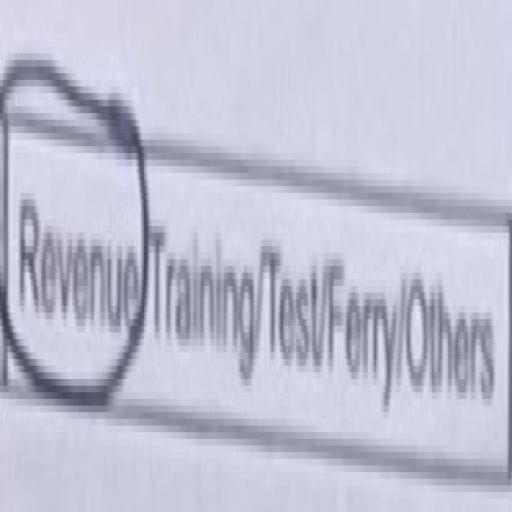check: (1, 0, 145, 512)
